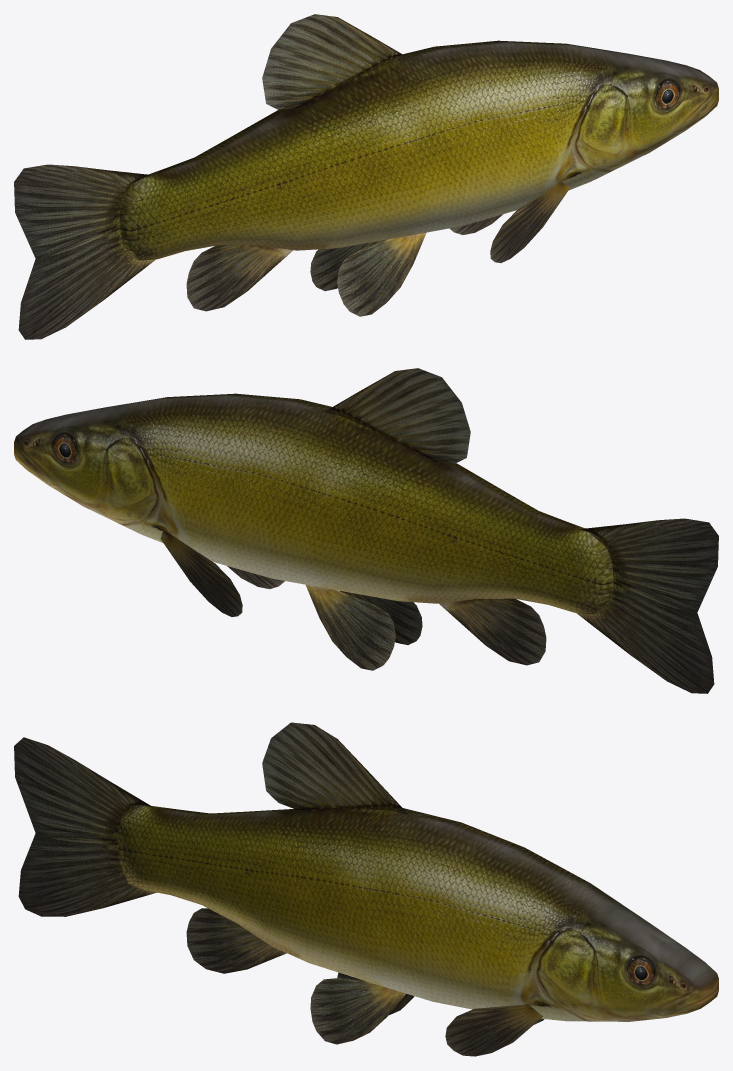
File: Tench.glb
The picture shows the model from 3 angles, top to bottom: view 1: azimuth 30°, elevation 25°; view 2: azimuth 150°, elevation 25°; view 3: azimuth 330°, elevation 25°; orthographic projection.
Parts seen in each view (by area): view 1: Tench; view 2: Tench; view 3: Tench.
Part boxes in pixels (x1,y1,x2,y2): Tench: (14, 14, 718, 339); Tench: (14, 368, 718, 693); Tench: (14, 722, 718, 1056).
Size of the model in its own units: 2 by 0.8125 by 0.236.
1 material, 1 textured.
